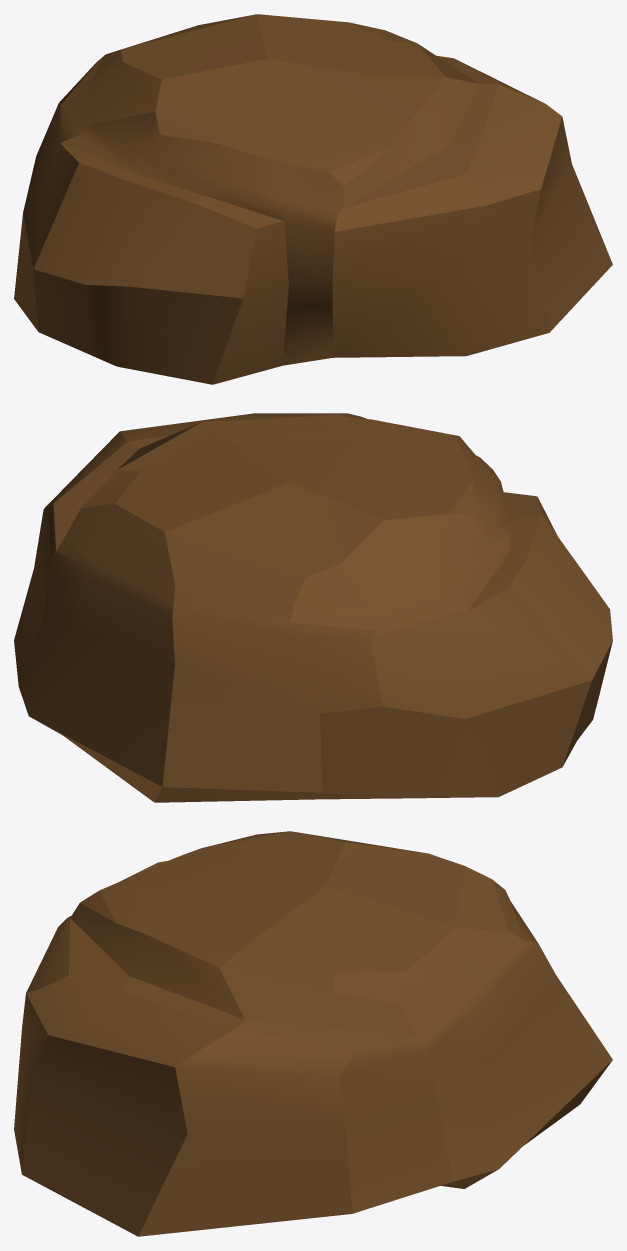
Rendered from quaternius-ultimate-space-rock-large-1.glb.
The picture shows the model from 3 angles, top to bottom: view 1: azimuth 30°, elevation 25°; view 2: azimuth 150°, elevation 25°; view 3: azimuth 270°, elevation 25°; orthographic projection. The views are drawn at different scales.
Visible parts, largest first — view 1: Rock_Large_1; view 2: Rock_Large_1; view 3: Rock_Large_1.
Part boxes in pixels (left/top/right/bottom): Rock_Large_1: left=14, top=14, right=612, bottom=384; Rock_Large_1: left=14, top=413, right=612, bottom=802; Rock_Large_1: left=14, top=831, right=612, bottom=1236.
Bounding box in the file's own units: 7.67 × 3.29 × 7.33.
Materials: 1 (1 with a texture image).
